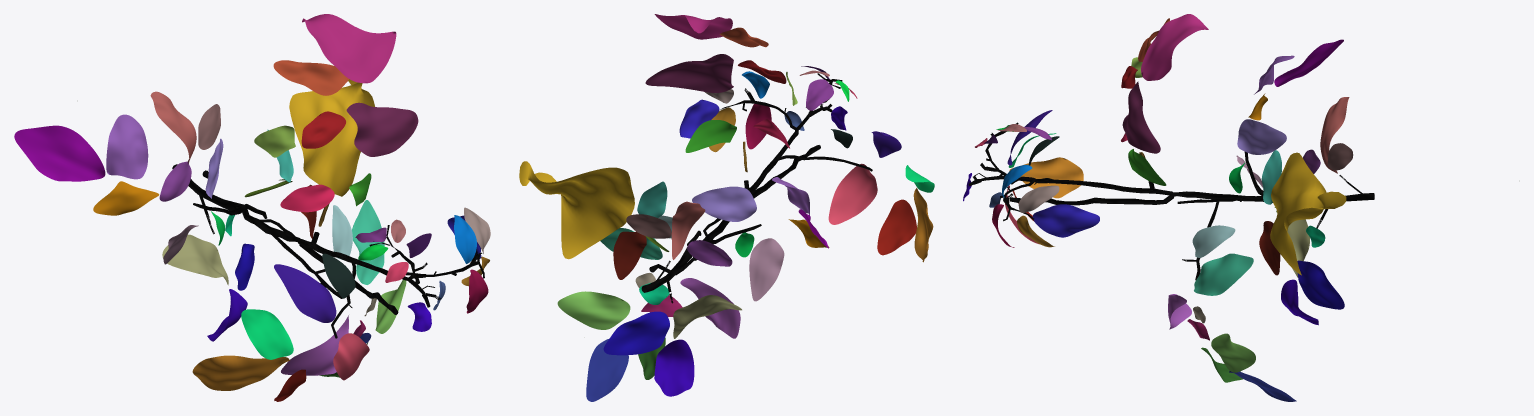
File: 05022024_TomatoesFix.fbx
The picture shows the model from 3 angles, left to right: view 1: azimuth 30°, elevation 25°; view 2: azimuth 150°, elevation 25°; view 3: azimuth 270°, elevation 25°; orthographic projection. The views are drawn at different scales.
Parts seen in each view (by area): view 1: 2-4-PS_Tray_006-S3D-Tomato_large_a; view 2: 2-4-PS_Tray_006-S3D-Tomato_large_a; view 3: 2-4-PS_Tray_006-S3D-Tomato_large_a.
Boxes of the visible parts, x1=… form: 2-4-PS_Tray_006-S3D-Tomato_large_a: x1=14, y1=14, x2=490, y2=401; 2-4-PS_Tray_006-S3D-Tomato_large_a: x1=519, y1=14, x2=934, y2=401; 2-4-PS_Tray_006-S3D-Tomato_large_a: x1=963, y1=14, x2=1374, y2=401.
Size of the model in its own units: 41315 by 46349 by 65975.
